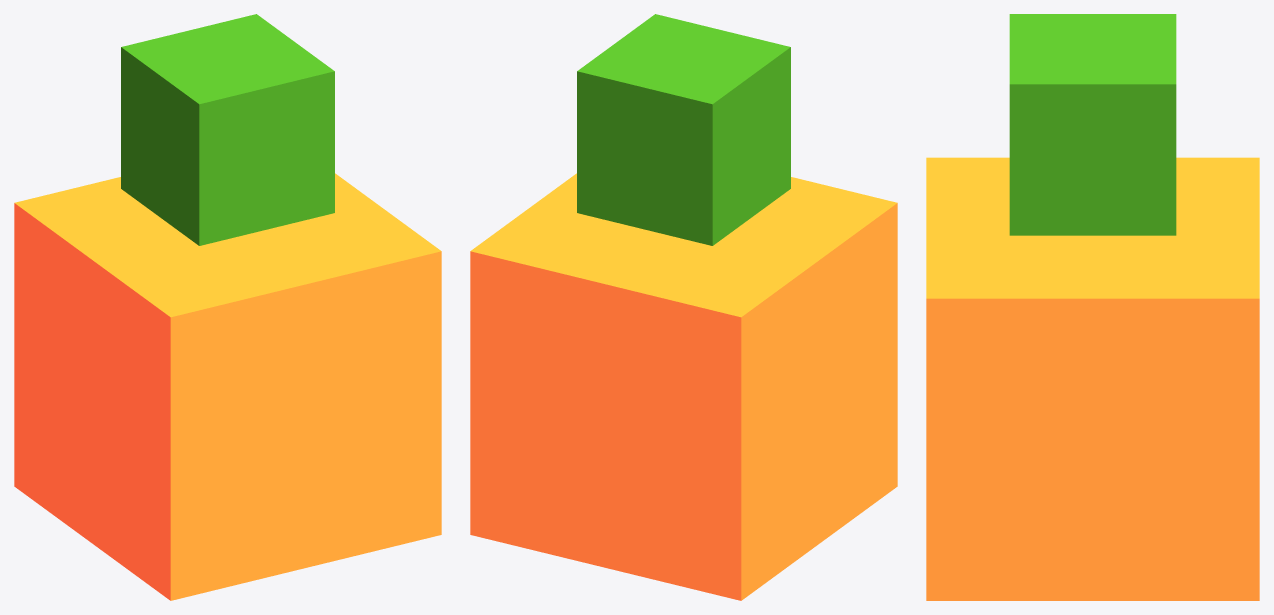
3 renders of one model, left to right at view 1: azimuth 30°, elevation 25°; view 2: azimuth 150°, elevation 25°; view 3: azimuth 270°, elevation 25°, orthographic. The views are drawn at different scales.
Visible parts, largest first — view 1: Cube, Cube.001; view 2: Cube, Cube.001; view 3: Cube, Cube.001.
Boxes of the visible parts, x1=… form: Cube: x1=14, y1=173, x2=441, y2=600; Cube.001: x1=121, y1=14, x2=334, y2=245; Cube: x1=470, y1=173, x2=897, y2=600; Cube.001: x1=577, y1=14, x2=790, y2=245; Cube: x1=926, y1=157, x2=1259, y2=600; Cube.001: x1=1009, y1=14, x2=1176, y2=235.
Bounding box in the file's own units: 2 × 3.18 × 2.
